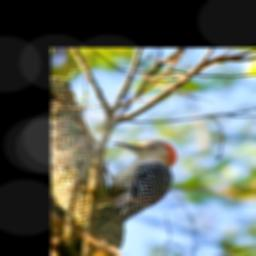Woodpecker: (94, 135, 195, 231)
